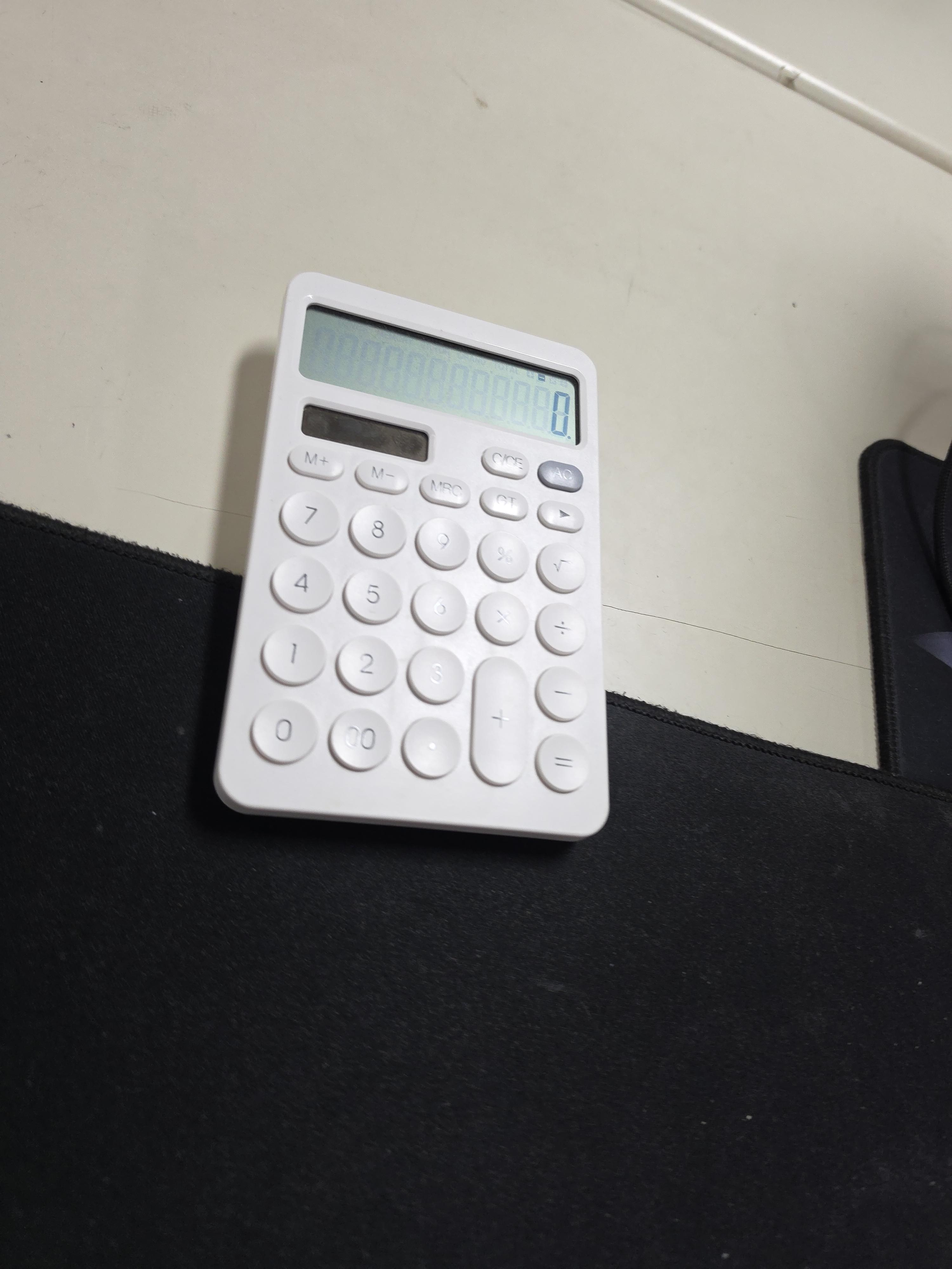calculator: (215, 272, 610, 841)
